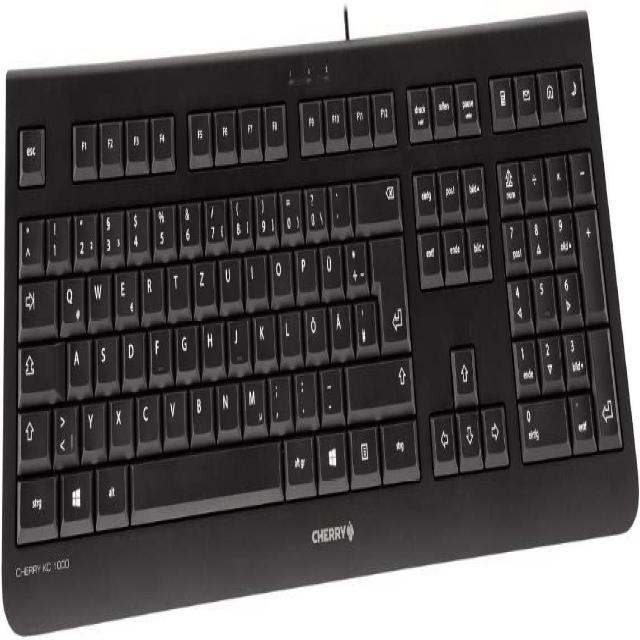0: (279, 185, 301, 238)
1: (46, 213, 69, 266)
2: (74, 209, 95, 265)
3: (100, 204, 122, 261)
4: (127, 203, 149, 256)
5: (152, 200, 174, 253)
6: (178, 197, 200, 250)
7: (204, 194, 226, 247)
8: (229, 191, 251, 245)
9: (254, 187, 275, 243)
a: (66, 335, 89, 389)
accent: (328, 179, 349, 229)
ae: (330, 300, 350, 350)
alt-left: (95, 460, 125, 520)
altgr-right: (283, 430, 314, 492)
b: (188, 380, 211, 433)
c: (135, 387, 158, 442)
caret: (18, 213, 40, 266)
comma: (267, 370, 290, 427)
d: (122, 328, 143, 381)
del: (353, 173, 400, 226)
e: (113, 264, 135, 319)
enter: (369, 229, 409, 346)
f: (149, 324, 168, 373)
g: (175, 320, 195, 370)
h: (201, 317, 222, 369)
hash: (354, 293, 376, 348)
i: (245, 250, 264, 298)
j: (227, 313, 247, 364)
k: (253, 310, 274, 360)
keyboard: (0, 6, 639, 634)
l: (279, 307, 299, 357)
less: (52, 399, 76, 461)
m: (242, 373, 264, 429)
minus: (319, 363, 341, 414)
n: (216, 377, 237, 430)
o: (269, 245, 291, 298)
oe: (304, 302, 324, 354)
p: (294, 242, 314, 292)
plus: (344, 235, 366, 289)
point: (294, 367, 315, 420)
q: (59, 272, 82, 328)
r: (141, 263, 161, 313)
s: (94, 330, 116, 383)
shift-left: (16, 405, 48, 461)
shift-lock: (17, 339, 63, 396)
shift-right: (345, 354, 412, 411)
space: (130, 439, 282, 522)
ss: (304, 182, 325, 235)
strg-left: (15, 470, 57, 539)
strg-right: (515, 392, 570, 459), (379, 416, 419, 479)
t: (167, 259, 186, 309)
tab: (18, 275, 55, 331)
u: (218, 252, 240, 304)
ue: (319, 239, 340, 289)
v: (163, 385, 184, 438)
w: (87, 269, 109, 320)
x: (109, 394, 131, 447)
y: (81, 398, 103, 451)
z: (193, 255, 213, 307)
